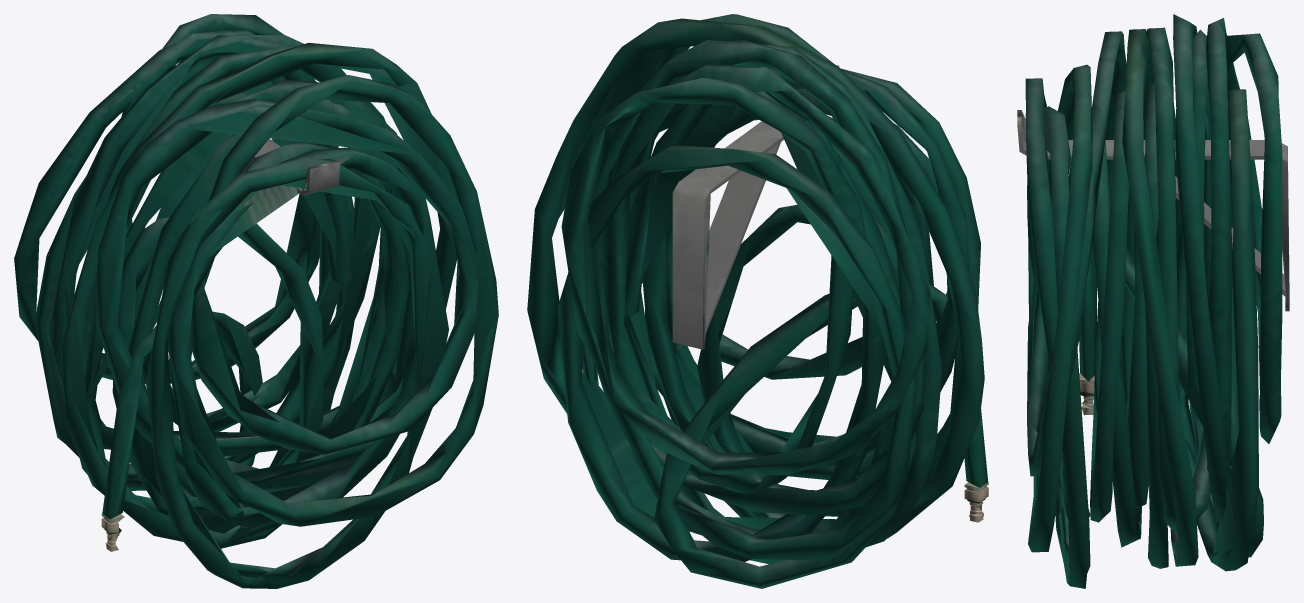
Rendered from garden_hose_wall_mounted_01.glb.
The picture shows the model from 3 angles, left to right: view 1: azimuth 30°, elevation 25°; view 2: azimuth 150°, elevation 25°; view 3: azimuth 270°, elevation 25°; orthographic projection. The views are drawn at different scales.
Parts seen in each view (by area): view 1: garden_hose_wall_bracket, garden_hose_wall_bracket_lo; view 2: garden_hose_wall_bracket, garden_hose_wall_bracket_lo; view 3: garden_hose_wall_bracket, garden_hose_wall_bracket_lo.
Part boxes in pixels (x1,y1,x2,y2): garden_hose_wall_bracket: (14,14,498,588); garden_hose_wall_bracket_lo: (42,37,498,584); garden_hose_wall_bracket: (527,14,988,588); garden_hose_wall_bracket_lo: (558,49,983,540); garden_hose_wall_bracket: (1017,14,1289,588); garden_hose_wall_bracket_lo: (1017,36,1288,581).
Size of the model in its own units: 0.4621 by 0.5511 by 0.2503.
Materials: 1 (1 with a texture image).
